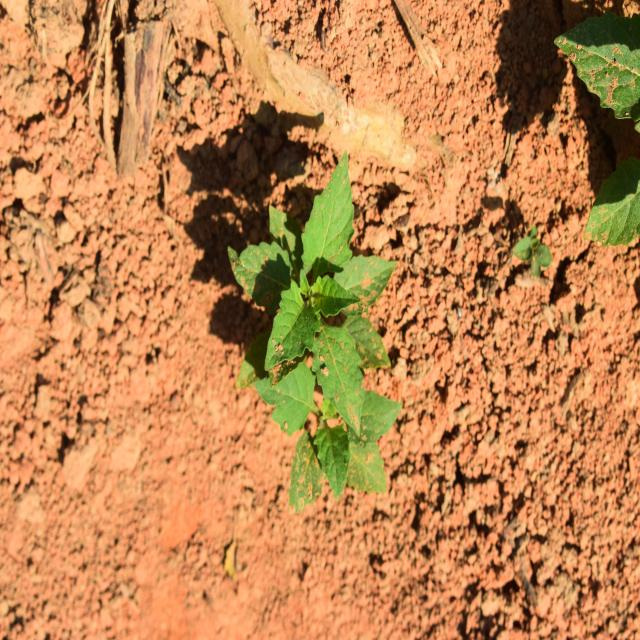Black_nightshade: (238, 181, 406, 510)
